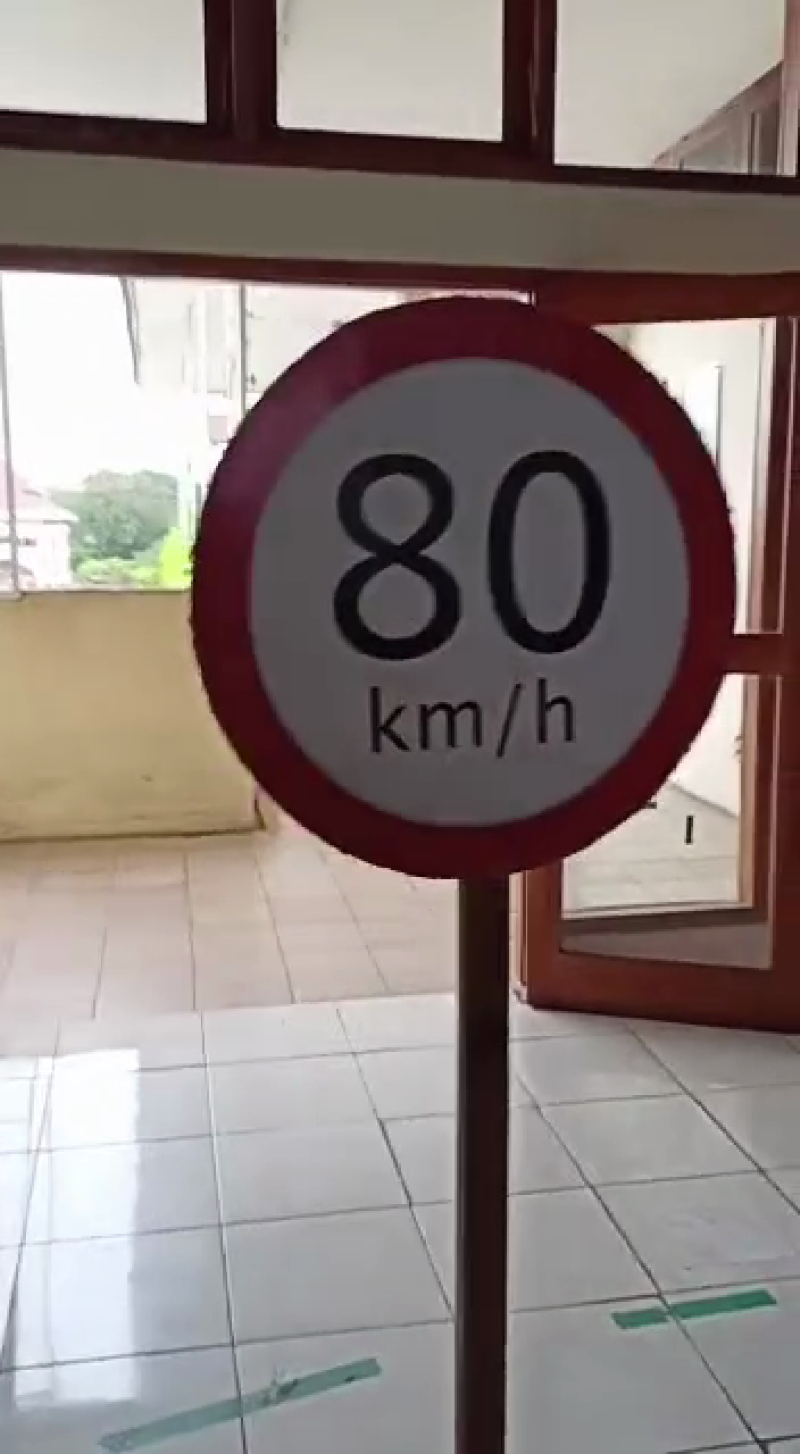batas maksimal 80kmperjam: (192, 293, 746, 895)
